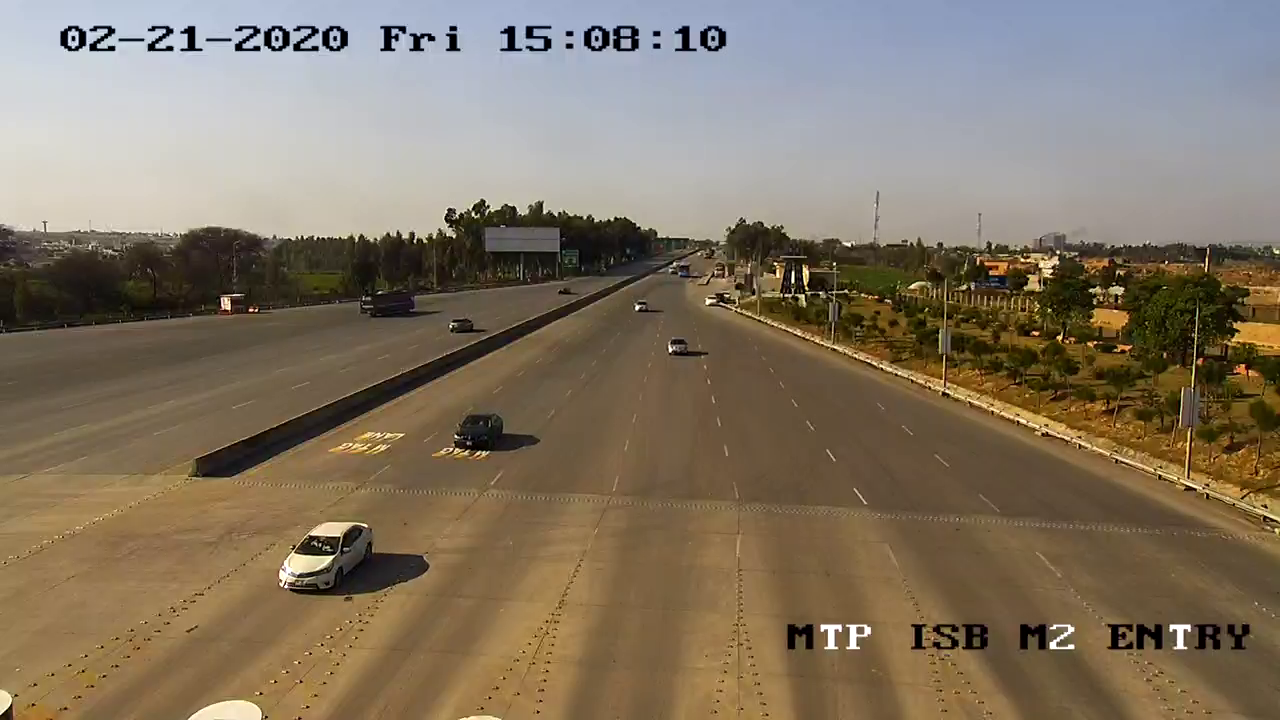f1: (265, 509, 382, 603), (442, 406, 511, 457)
